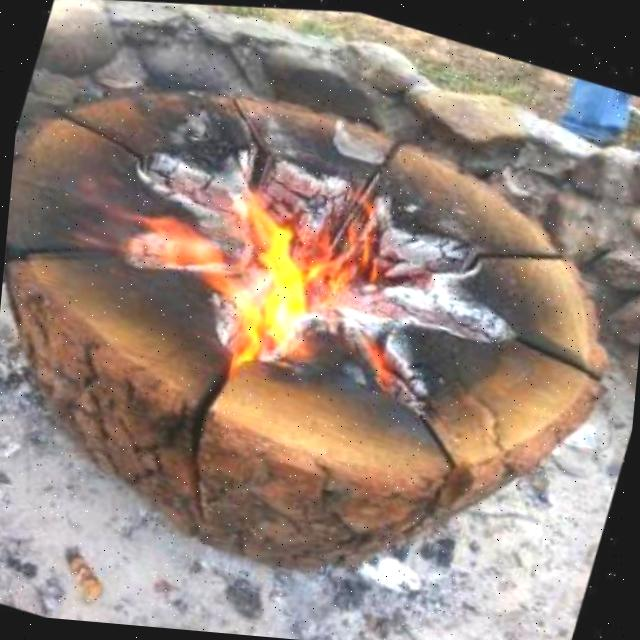fire: (171, 154, 377, 393)
